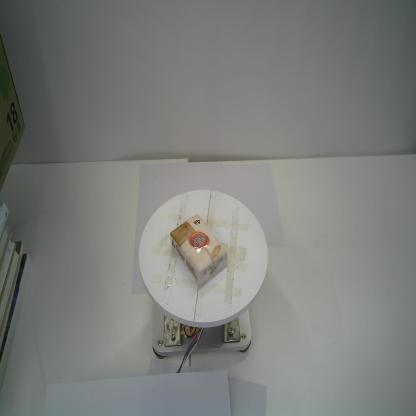Tissue: (170, 214, 228, 285)
